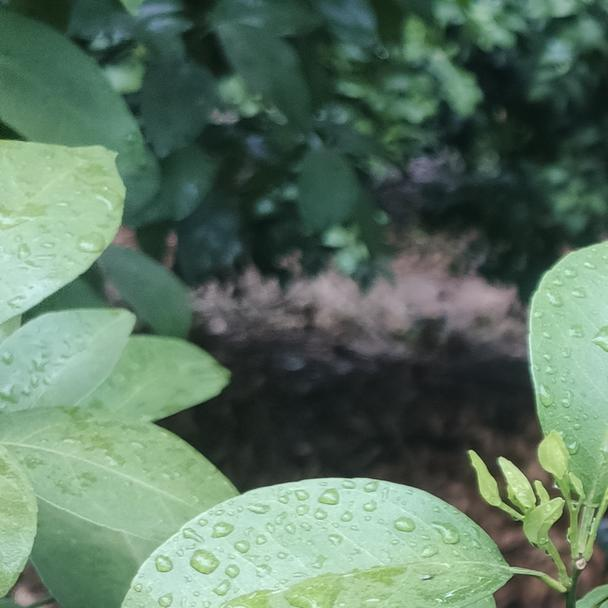shoot: (472, 455, 566, 573)
